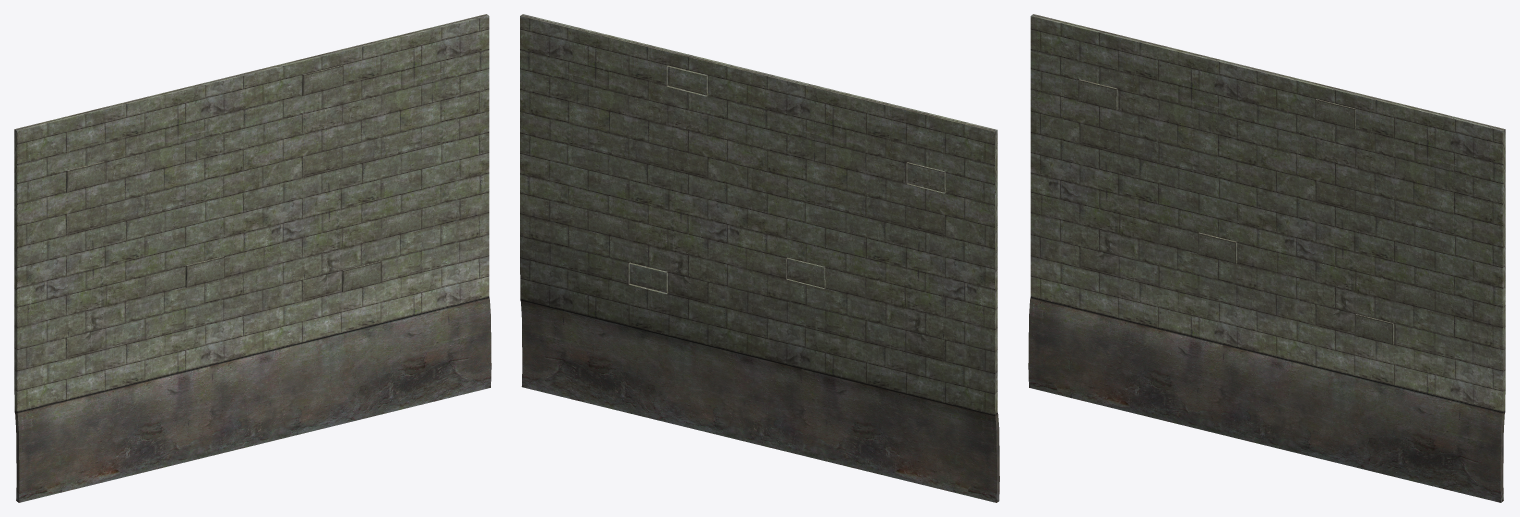
The model's file is wall1ground.fbx.
The picture shows the model from 3 angles, left to right: view 1: azimuth 30°, elevation 25°; view 2: azimuth 150°, elevation 25°; view 3: azimuth 330°, elevation 25°; orthographic projection.
Visible parts, largest first — view 1: Mesh Object; view 2: Mesh Object; view 3: Mesh Object.
Boxes of the visible parts, box(x1,y1,x2,y2) form: Mesh Object: box(14, 14, 491, 502); Mesh Object: box(520, 14, 999, 502); Mesh Object: box(1028, 14, 1505, 502).
Size of the model in its own units: 4 by 3 by 0.0918.
